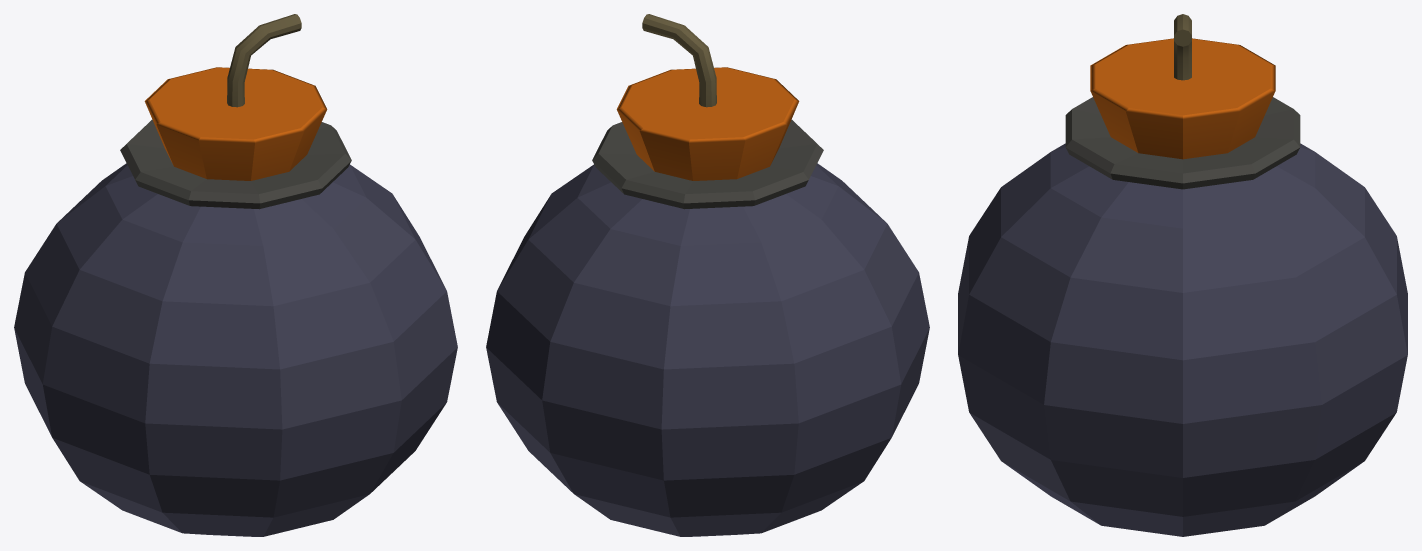
File: bombUVs.fbx
3 renders of one model, left to right at view 1: azimuth 30°, elevation 25°; view 2: azimuth 150°, elevation 25°; view 3: azimuth 270°, elevation 25°, orthographic. The views are drawn at different scales.
Parts seen in each view (by area): view 1: pSphere1; view 2: pSphere1; view 3: pSphere1.
Boxes of the visible parts, x1,y1,x2,y2 form: pSphere1: (14,14,457,536); pSphere1: (486,14,929,536); pSphere1: (958,14,1407,536).
Size of the model in its own units: 2 by 2.41 by 1.9.
